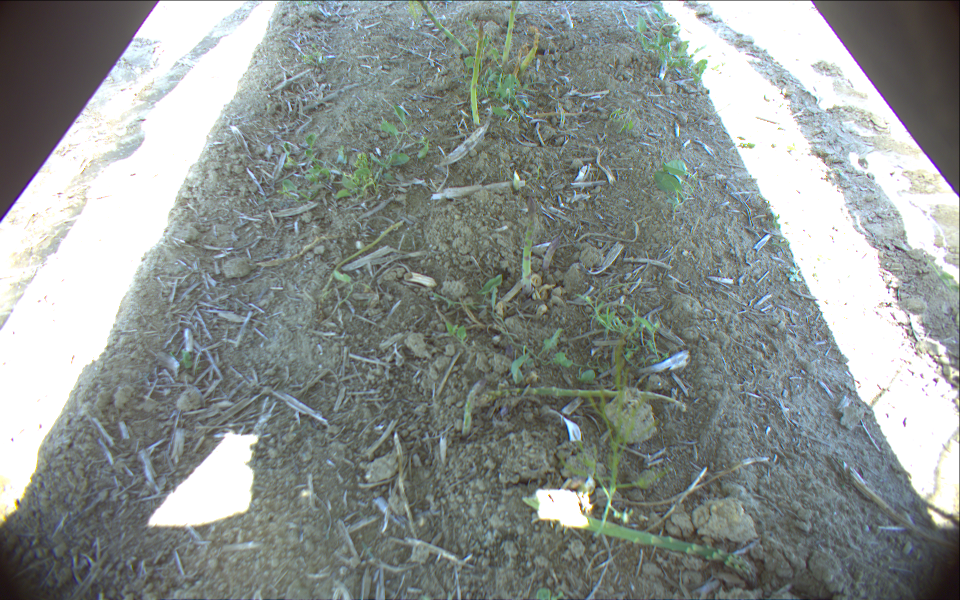aspa: (415, 1, 473, 56), (521, 192, 539, 296), (469, 22, 483, 129), (500, 1, 519, 74)
